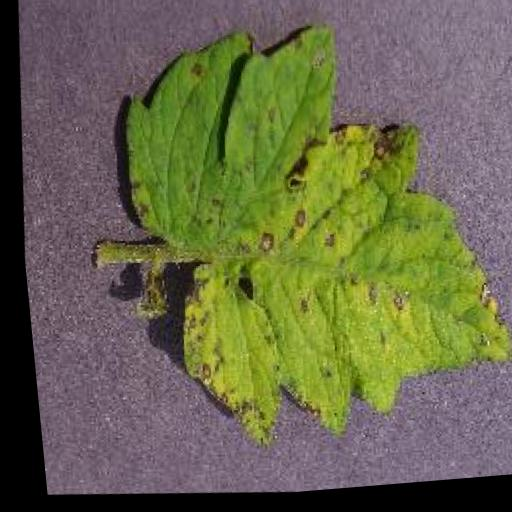Septoria: (90, 7, 512, 482)
